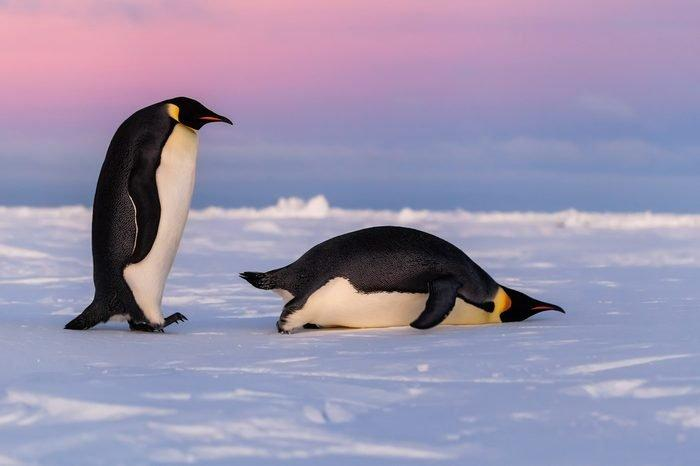emporer: (240, 217, 585, 364), (60, 73, 230, 368)
